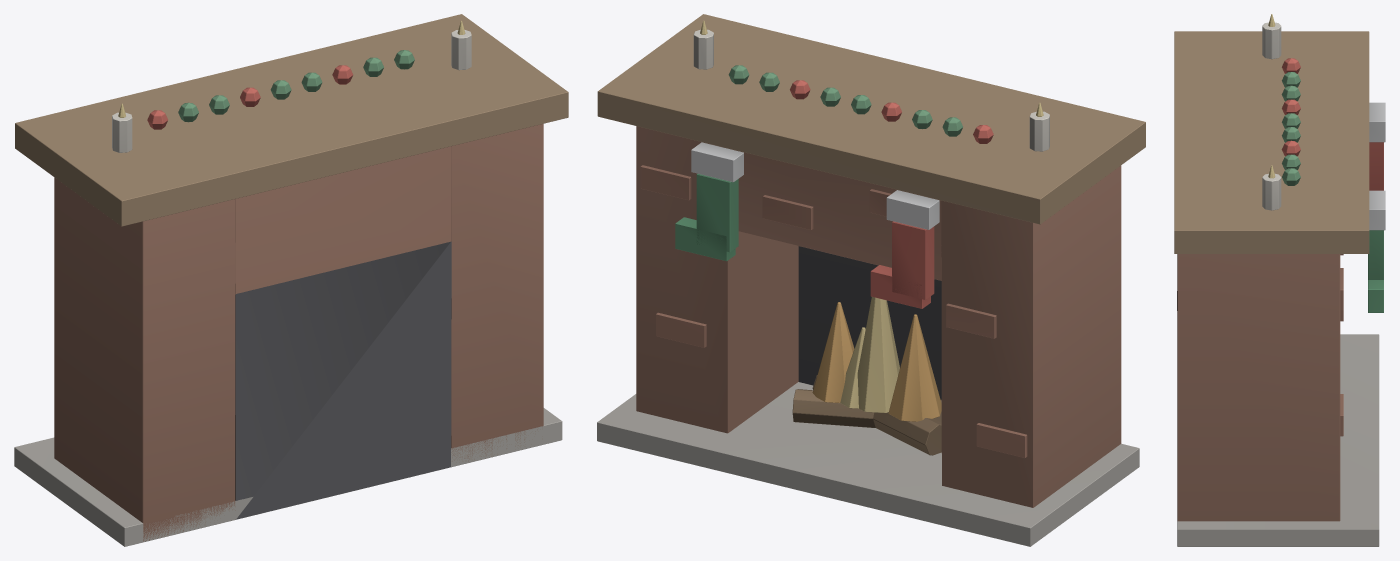
The model's file is xmas_fireplace.glb.
The picture shows the model from 3 angles, left to right: view 1: azimuth 30°, elevation 25°; view 2: azimuth 150°, elevation 25°; view 3: azimuth 270°, elevation 25°; orthographic projection. The views are drawn at different scales.
Size of the model in its own units: 1.45 by 1.22 by 0.65.
